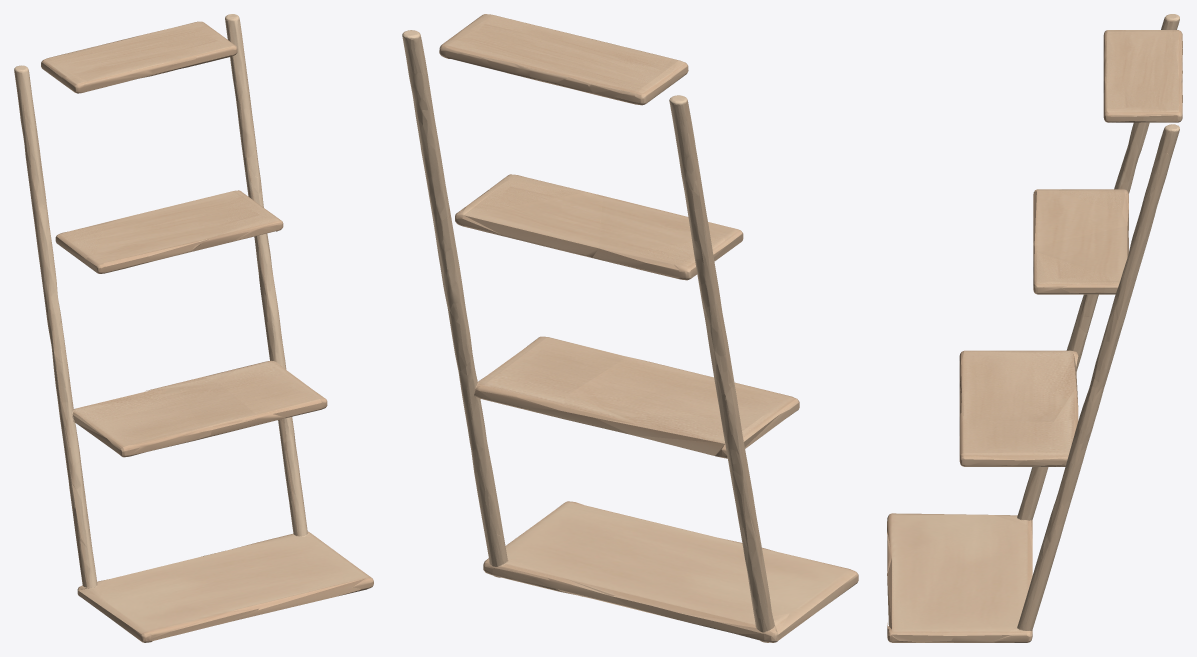
Rendered from raw_shelf_ladder_4tier.glb.
The picture shows the model from 3 angles, left to right: view 1: azimuth 30°, elevation 25°; view 2: azimuth 150°, elevation 25°; view 3: azimuth 270°, elevation 25°; orthographic projection. The views are drawn at different scales.
Size of the model in its own units: 0.9642 by 1.9 by 0.9916.
1 material, 1 textured.
